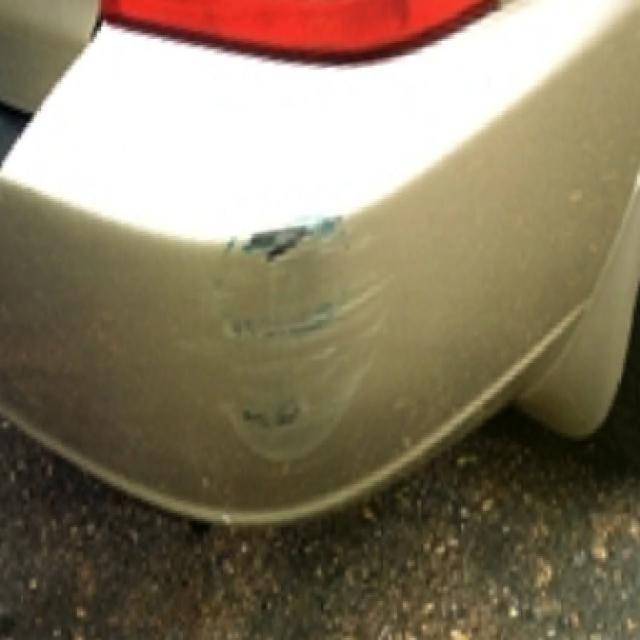scratch: (176, 209, 396, 474)
